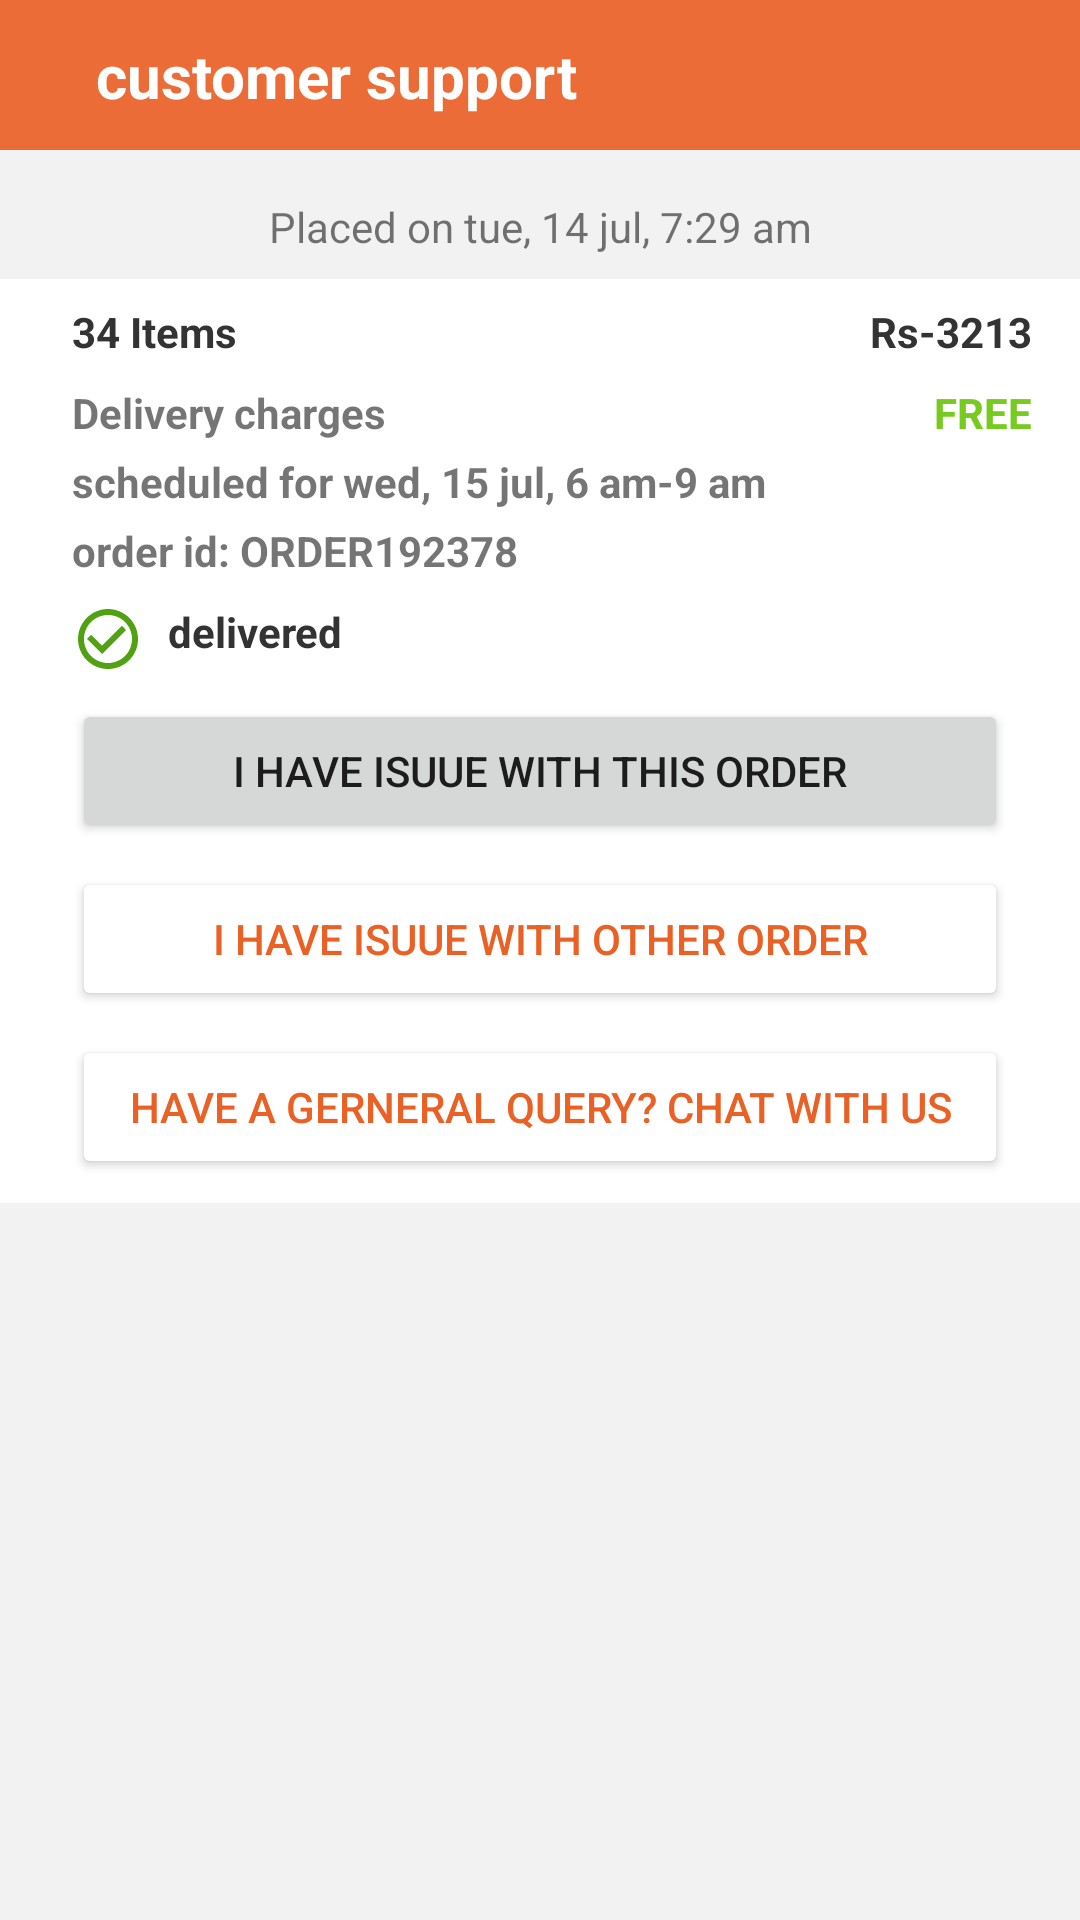

Screen size 1080*1920. Icon name, then its center in pixels as (x=x, y=y):
check circle: (x=108, y=639)
